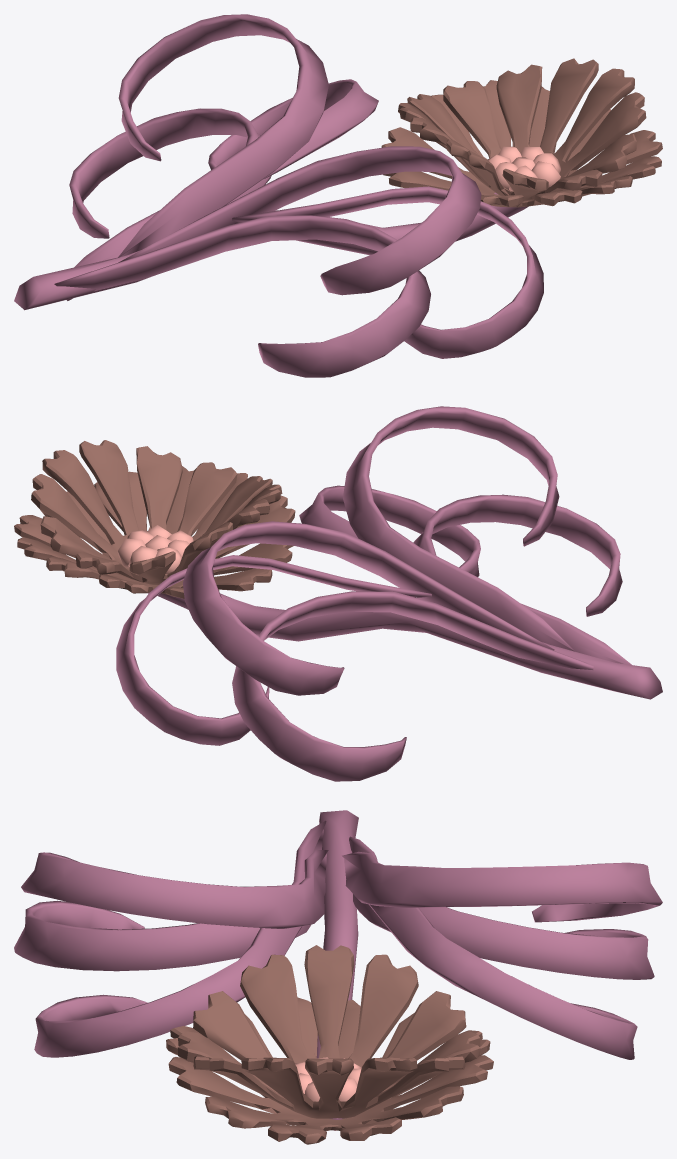
Rendered from flowwers2.fbx.
The picture shows the model from 3 angles, top to bottom: view 1: azimuth 30°, elevation 25°; view 2: azimuth 150°, elevation 25°; view 3: azimuth 270°, elevation 25°; orthographic projection. The views are drawn at different scales.
Parts seen in each view (by area): view 1: Spiral, Cogwheel.001, Sphere.003; view 2: Spiral, Cogwheel.001, Sphere.003; view 3: Spiral, Cogwheel.001, Sphere.003.
Part boxes in pixels (x1,y1,x2,y2): Spiral: (14, 14, 543, 377); Cogwheel.001: (381, 58, 662, 207); Sphere.003: (487, 146, 560, 191); Spiral: (116, 406, 662, 781); Cogwheel.001: (14, 440, 295, 598); Sphere.003: (117, 525, 193, 573); Spiral: (14, 810, 662, 1130); Cogwheel.001: (166, 945, 493, 1144); Sphere.003: (295, 1057, 361, 1101).
Size of the model in its own units: 601 by 161 by 474.
